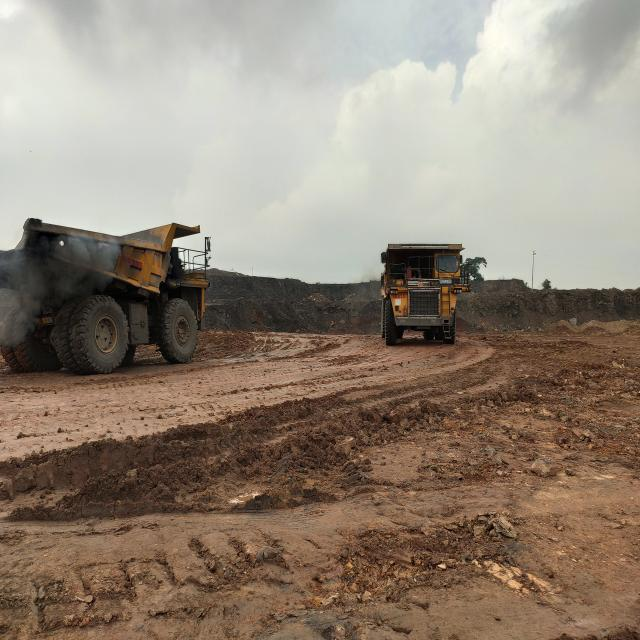dump_truck: (0, 219, 212, 377), (380, 243, 468, 348)
